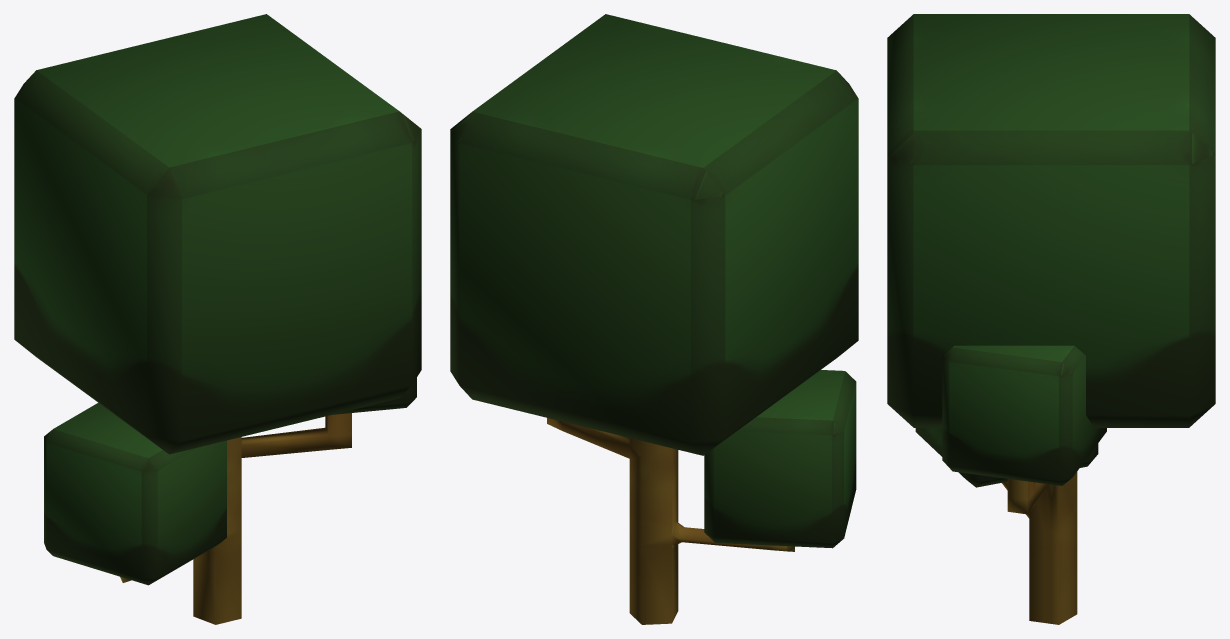
File: pohon.fbx
The picture shows the model from 3 angles, left to right: view 1: azimuth 30°, elevation 25°; view 2: azimuth 150°, elevation 25°; view 3: azimuth 270°, elevation 25°; orthographic projection. The views are drawn at different scales.
Parts seen in each view (by area): view 1: Pohon; view 2: Pohon; view 3: Pohon.
Boxes of the visible parts, x1,y1,x2,y2 form: Pohon: [14, 14, 421, 624]; Pohon: [450, 14, 858, 624]; Pohon: [887, 14, 1215, 624].
Size of the model in its own units: 49.84 by 69.47 by 38.11.
1 material, 1 textured.
